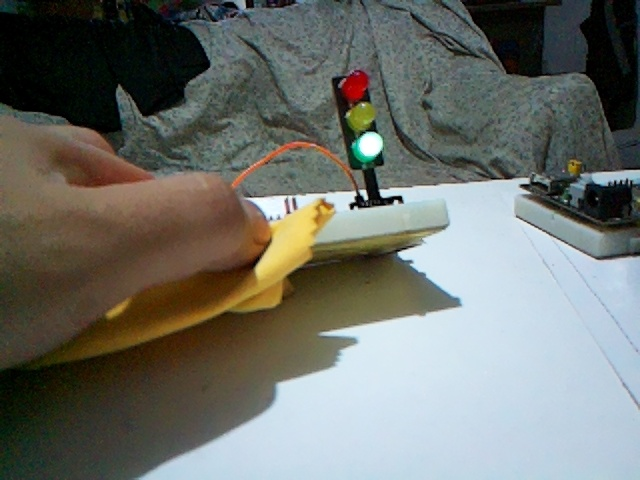traffic_light_green: (332, 70, 386, 169)
